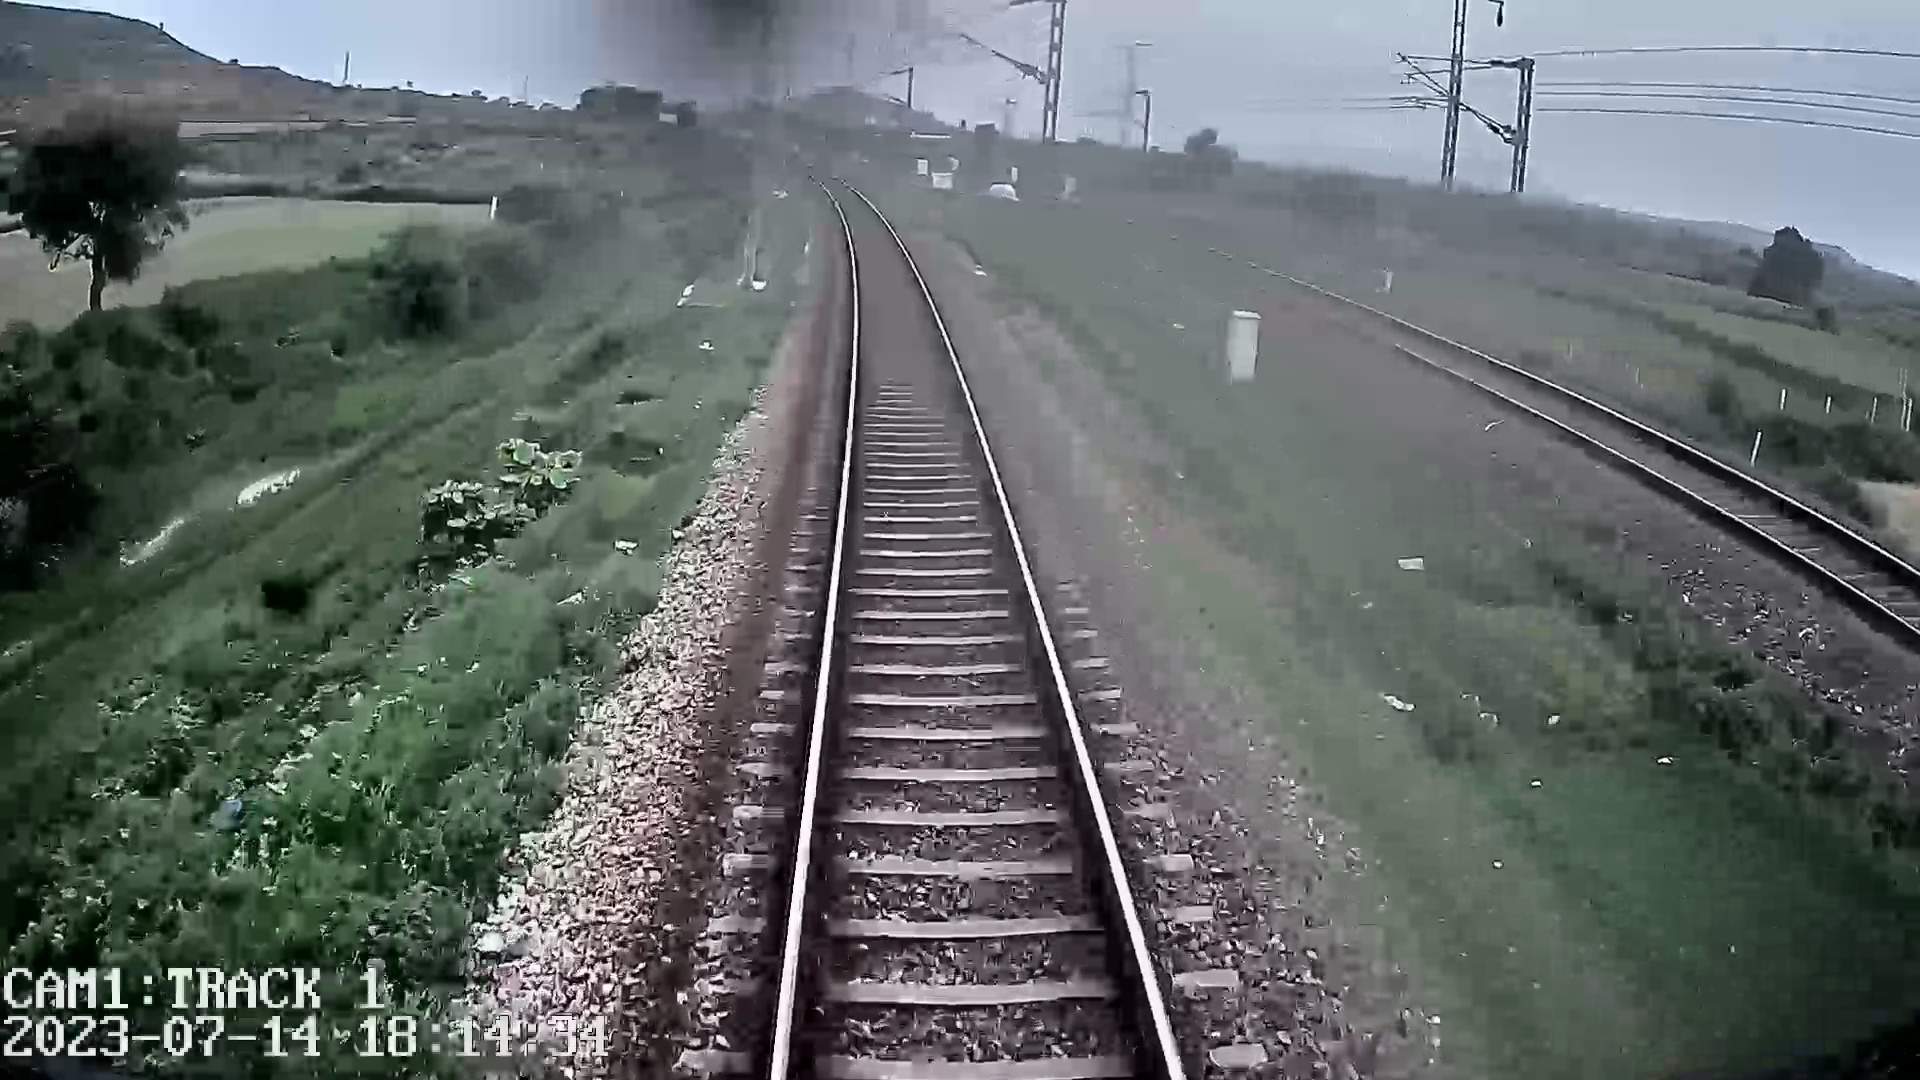track1: (782, 204, 1176, 1062)
track2: (1391, 343, 1916, 625)
